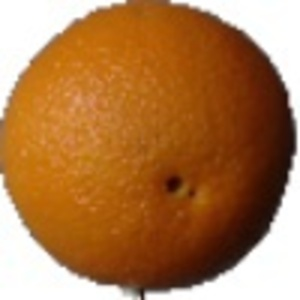laranja: (5, 3, 297, 296)
